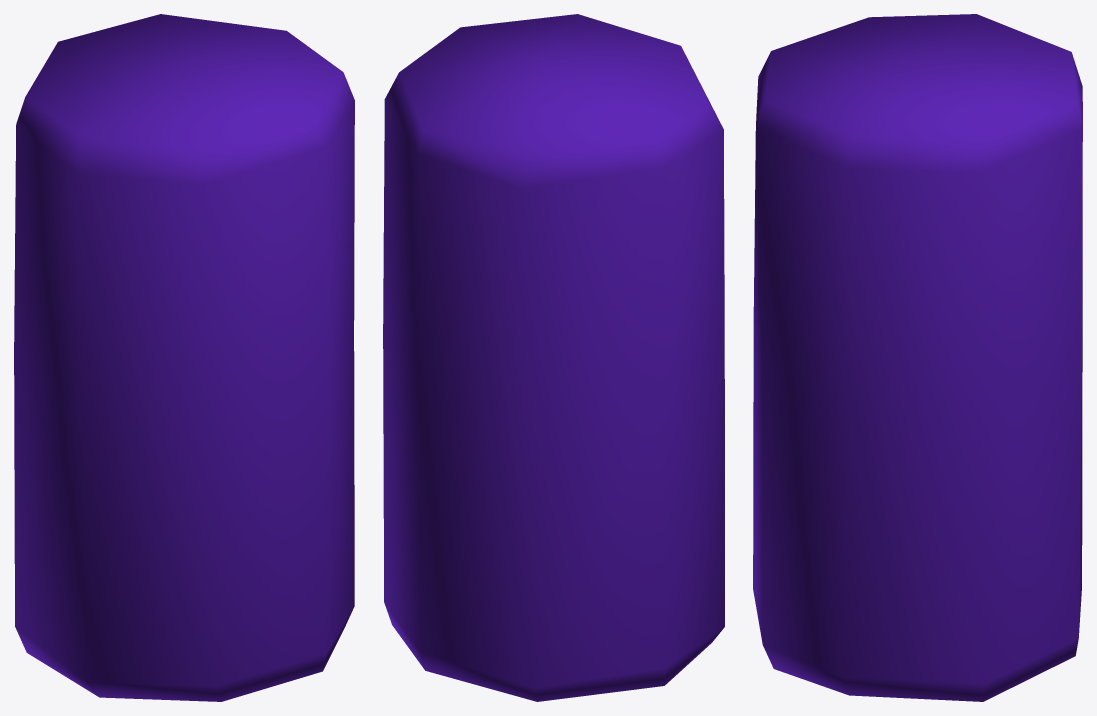
Rendered from column_06.FBX.
3 views of the same model, side by side, from view 1: azimuth 30°, elevation 25°; view 2: azimuth 150°, elevation 25°; view 3: azimuth 270°, elevation 25° (orthographic).
Parts seen in each view (by area): view 1: column_06; view 2: column_06; view 3: column_06.
Boxes of the visible parts, left/top/right/bottom form: column_06: left=14, top=14, right=354, bottom=701; column_06: left=383, top=14, right=724, bottom=701; column_06: left=753, top=14, right=1082, bottom=701.
Size of the model in its own units: 9.08 by 17.51 by 9.12.
